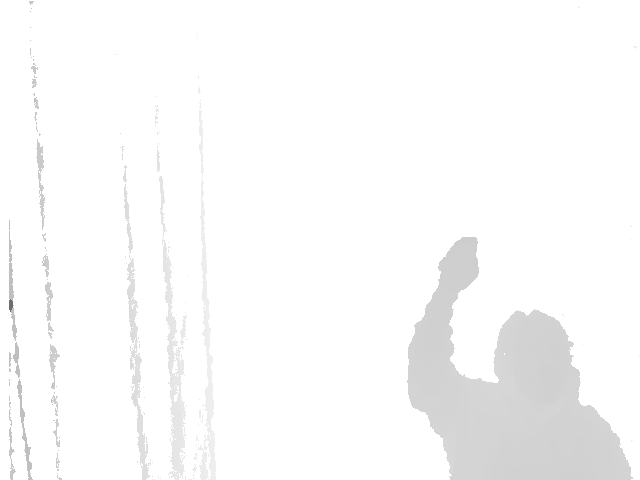hand: (435, 235, 481, 301)
head: (488, 306, 582, 403)
person: (405, 234, 635, 480)
